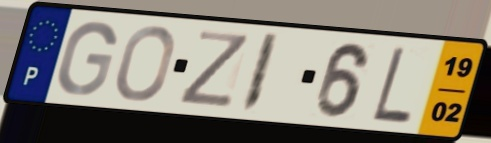6: (313, 41, 373, 120)
G: (54, 20, 119, 99)
I: (237, 31, 282, 115)
L: (369, 43, 414, 127)
O: (113, 23, 177, 103)
Z: (175, 28, 253, 110)
